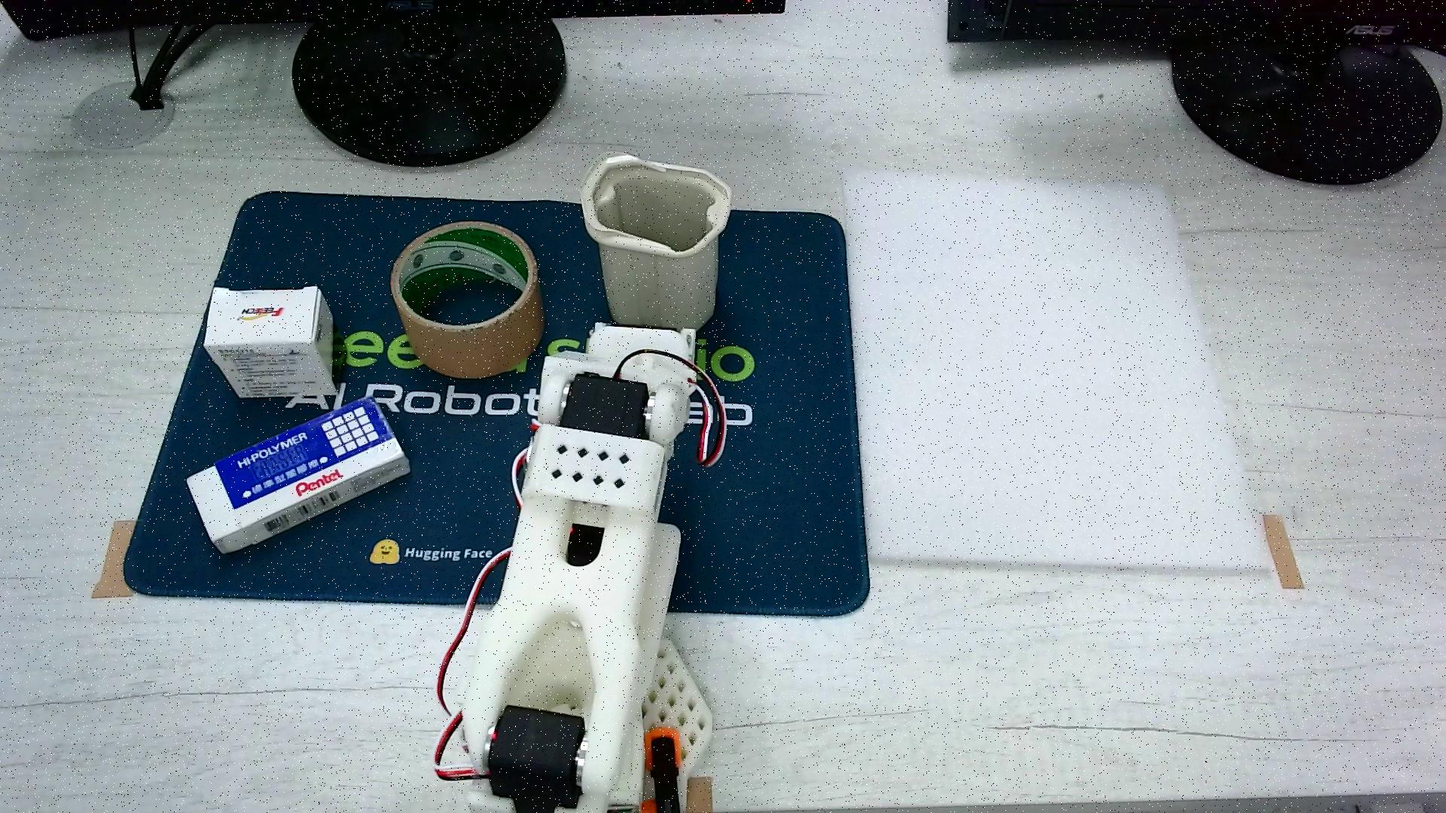eraser: (203, 288, 339, 397)
